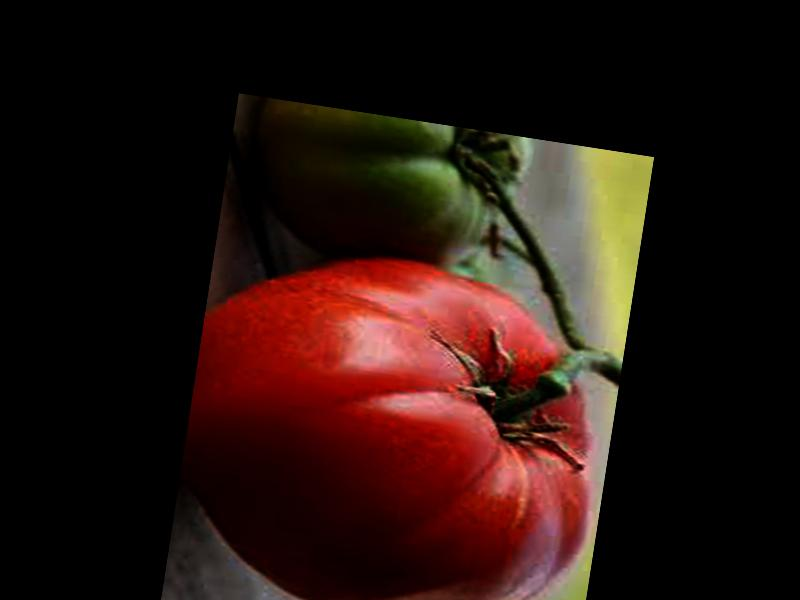Tomato: (162, 232, 624, 600)
